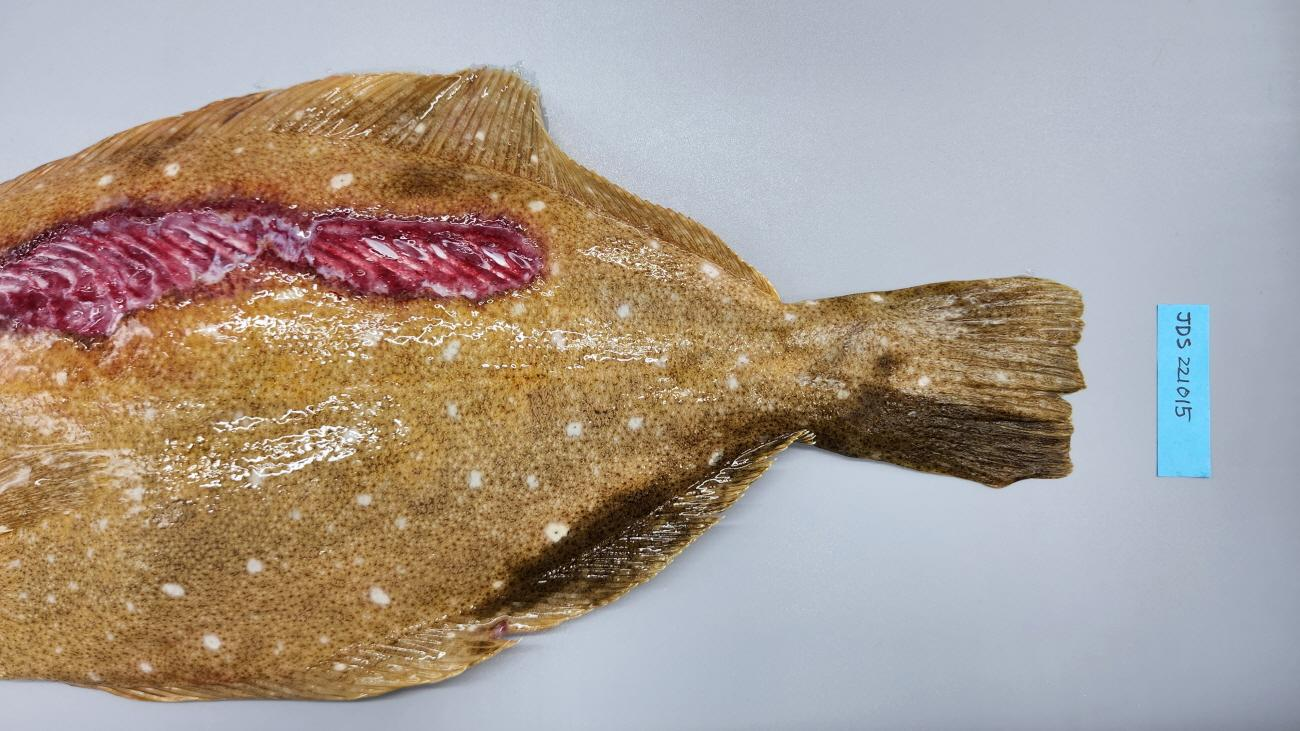VIDYU: (0, 177, 570, 358)
